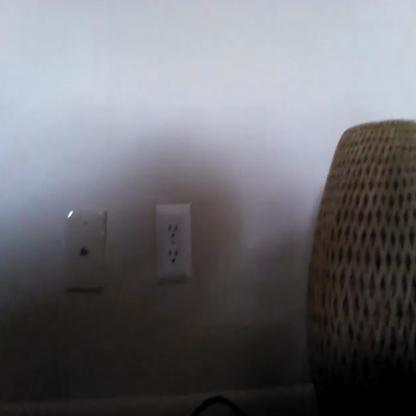OUTLET: (152, 204, 194, 281)
